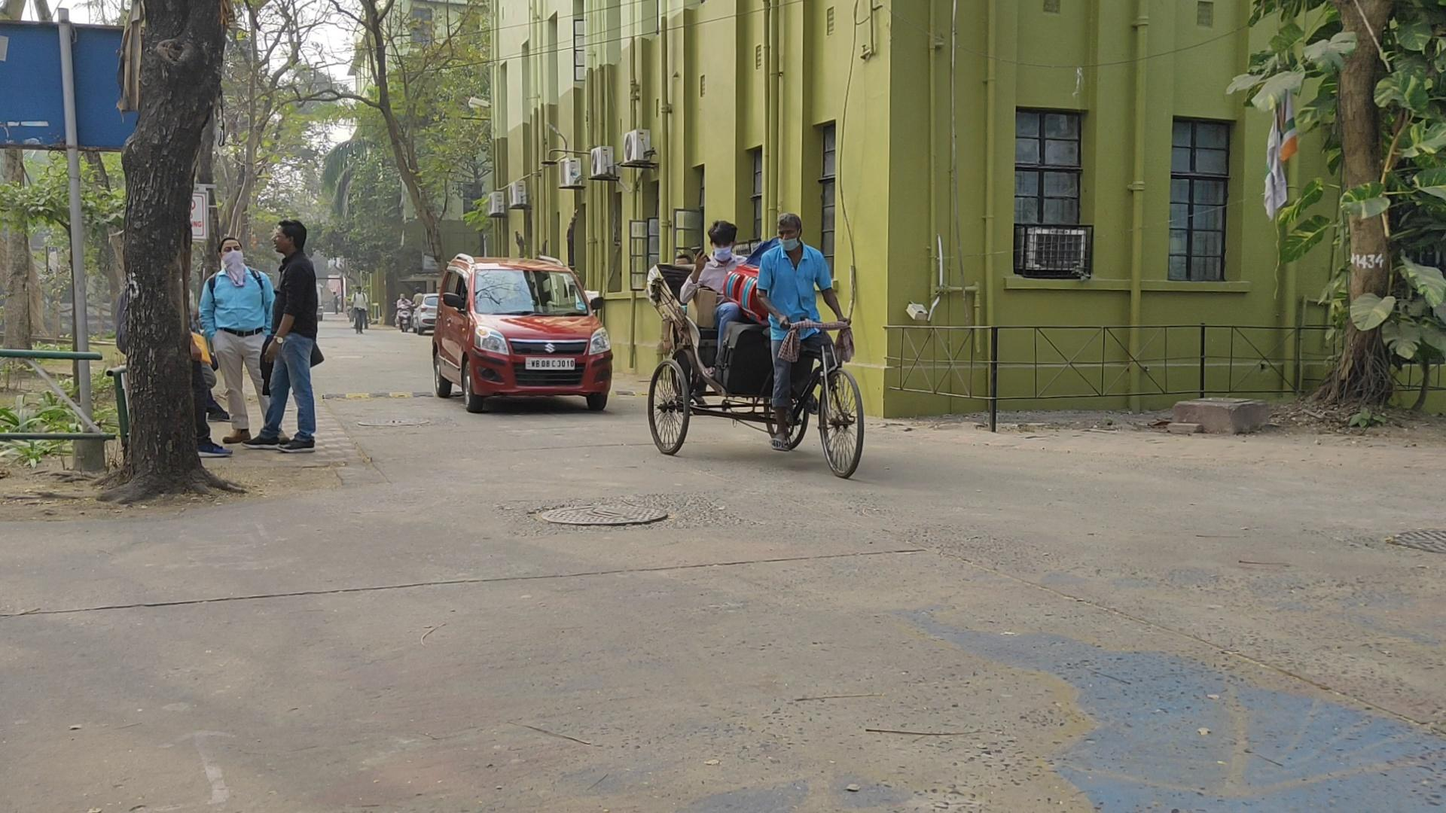bike: (393, 291, 414, 332)
car: (435, 254, 612, 413), (411, 292, 441, 336)
